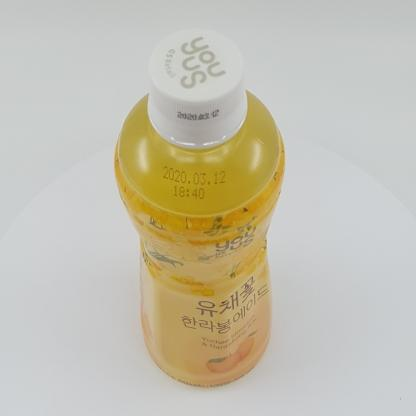-------------410ML: (114, 27, 285, 388)
